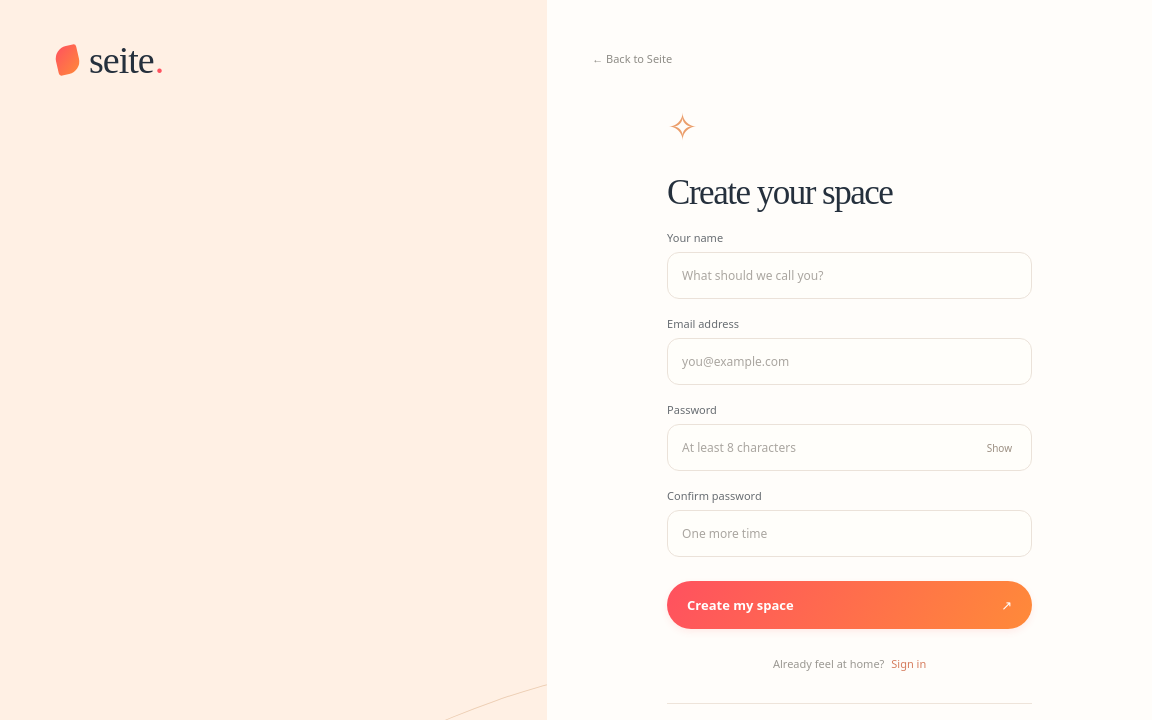
Test case: welcome and account preview › opens sign-up directly and can switch to sign-in
Expected: the heading "Create your space" is shown, [667,173,892,212]
Expected: the password field labelled "Confirm password" is shown, [667,510,1032,557]
Click the button "Sign in" at coordinates (909, 664), box [891,649,926,679]
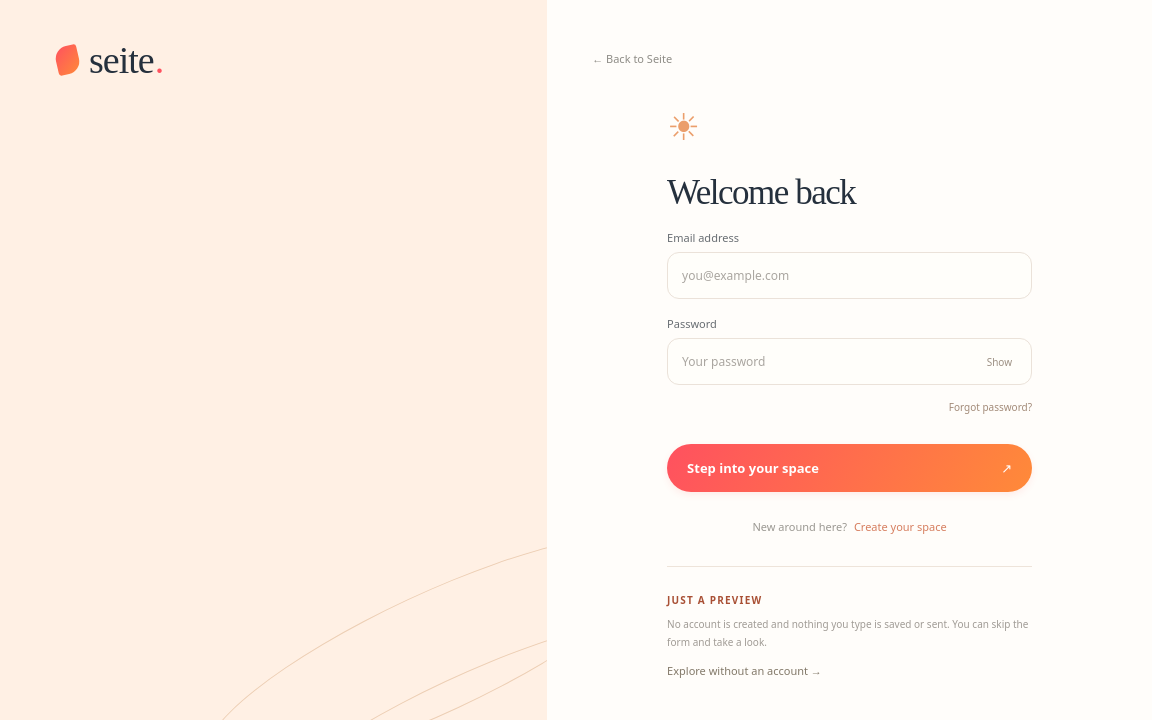
Expected: the heading "Welcome back" is shown, [667,173,855,212]
